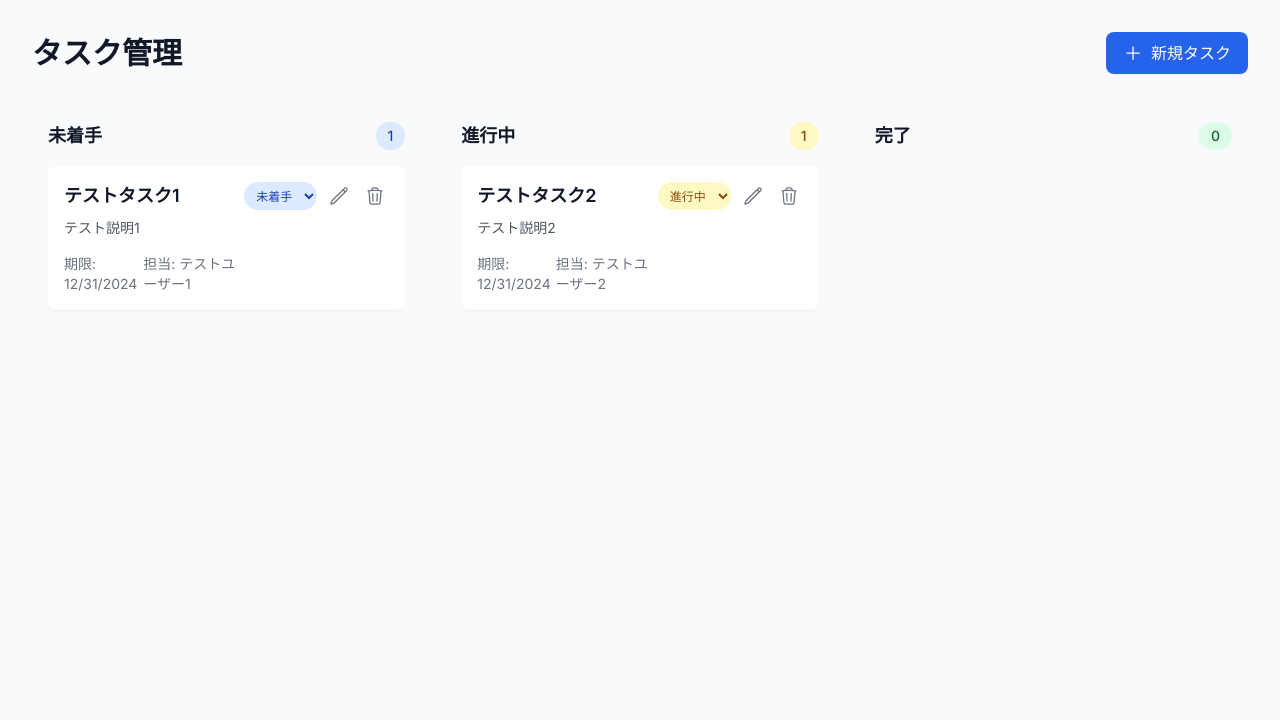
Test: Home › タスクの編集が成功する
Expected: the heading "テストタスク1" is shown, left=64, top=185, right=180, bottom=206
Click the button with test id "edit-button-1".
click(339, 196)  # box left=325, top=182, right=353, bottom=210
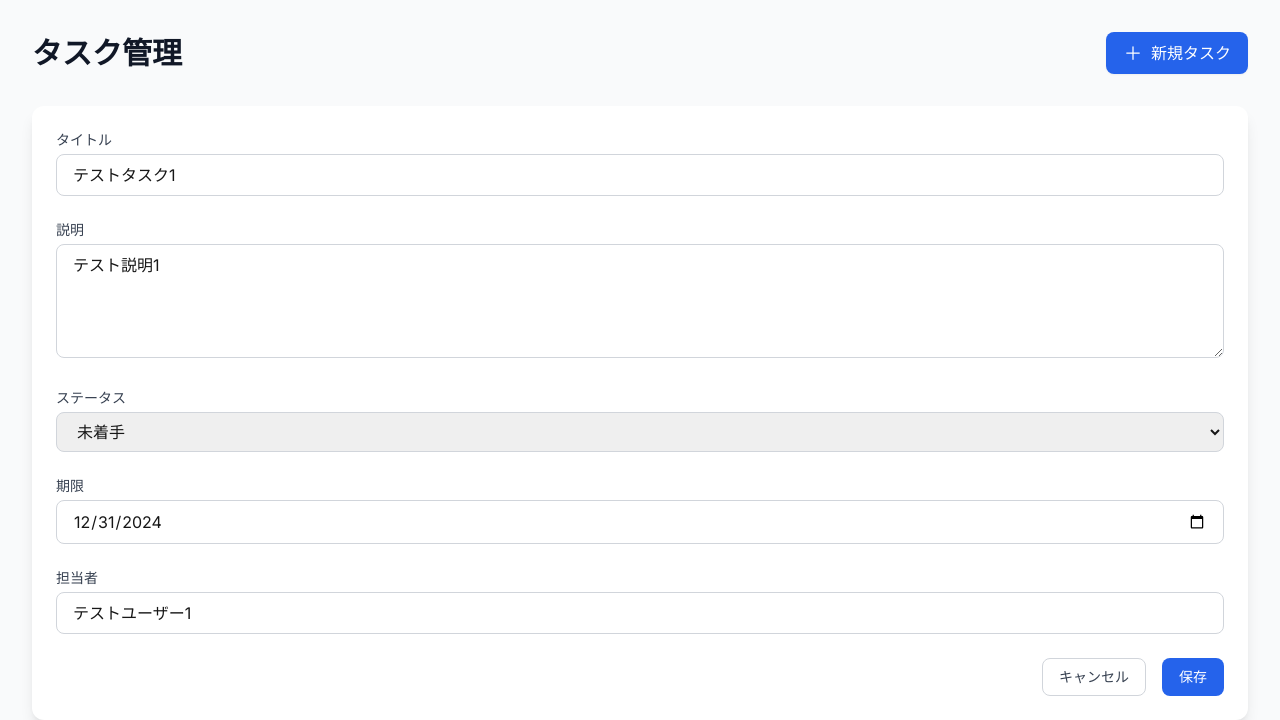
Replace the text in the field labelled "タイトル" with "更新されたタスク" at x=640, y=175, box left=56, top=154, right=1224, bottom=196
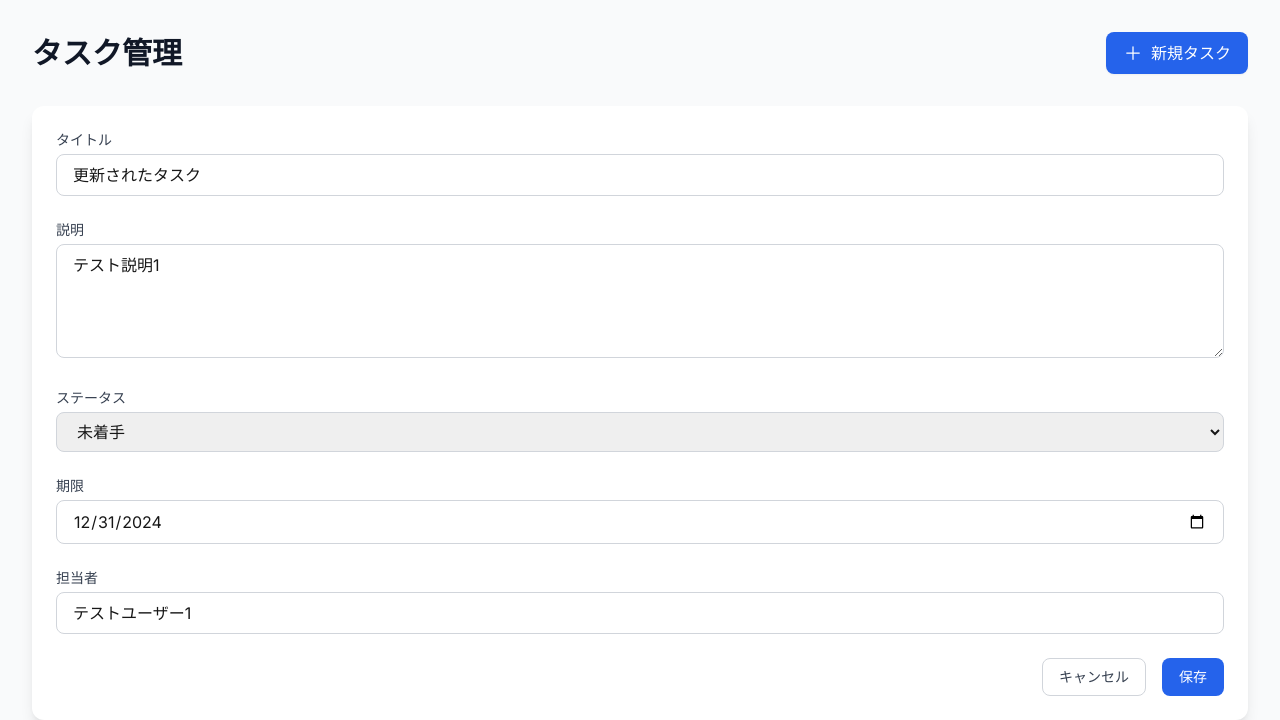
Replace the text in the text box labelled "説明" with "更新された説明" at x=640, y=301, box left=56, top=244, right=1224, bottom=358
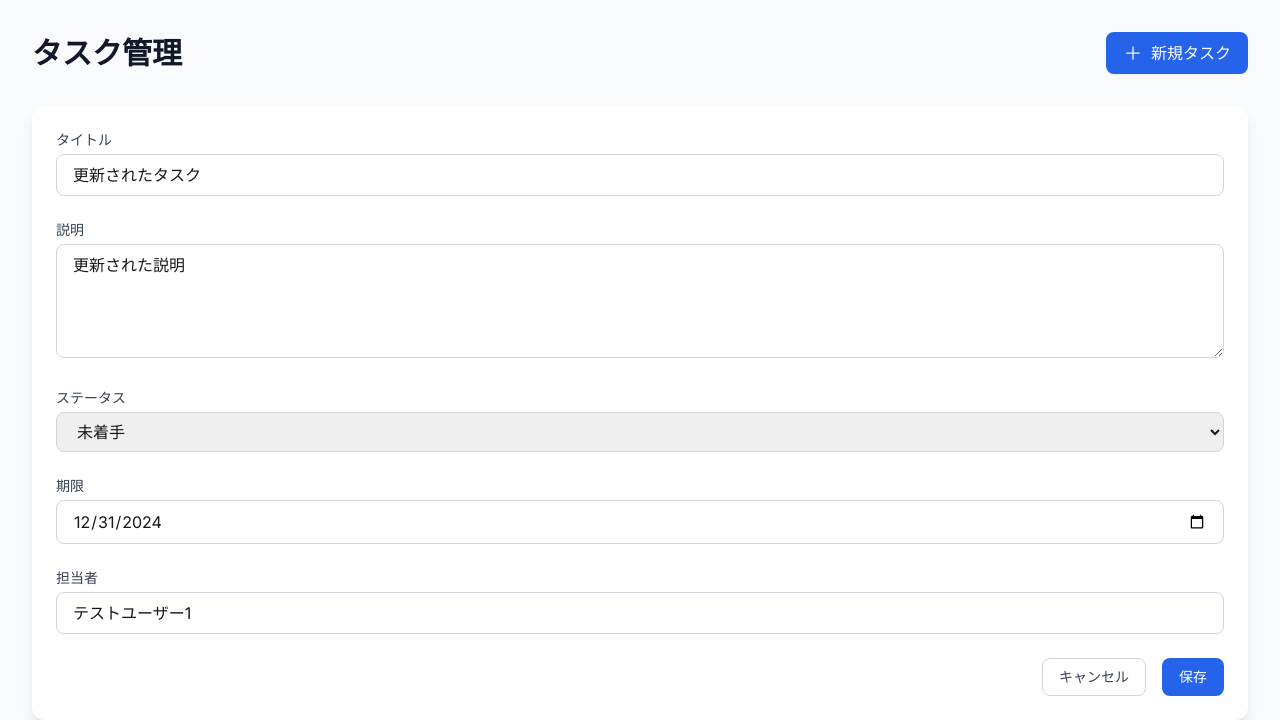
Click the button "保存".
click(1193, 677)  # box left=1162, top=658, right=1224, bottom=696
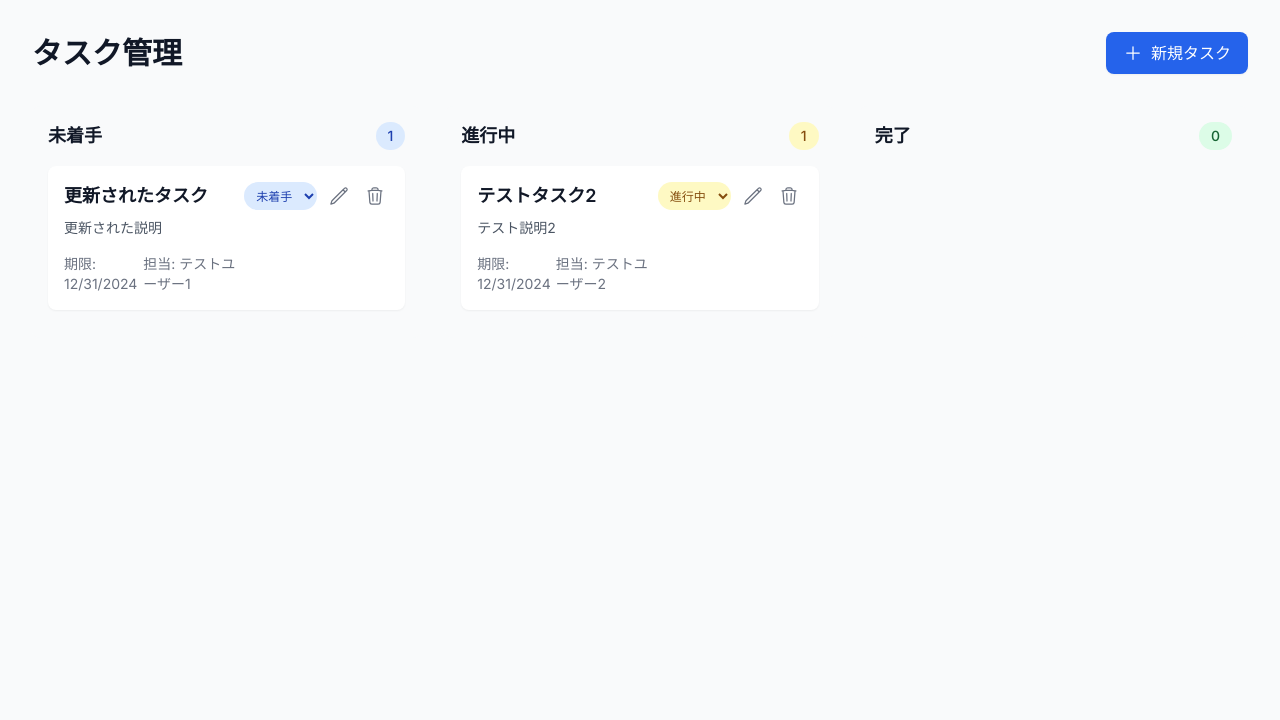
Now the heading "更新されたタスク" is shown, box left=64, top=185, right=208, bottom=206
